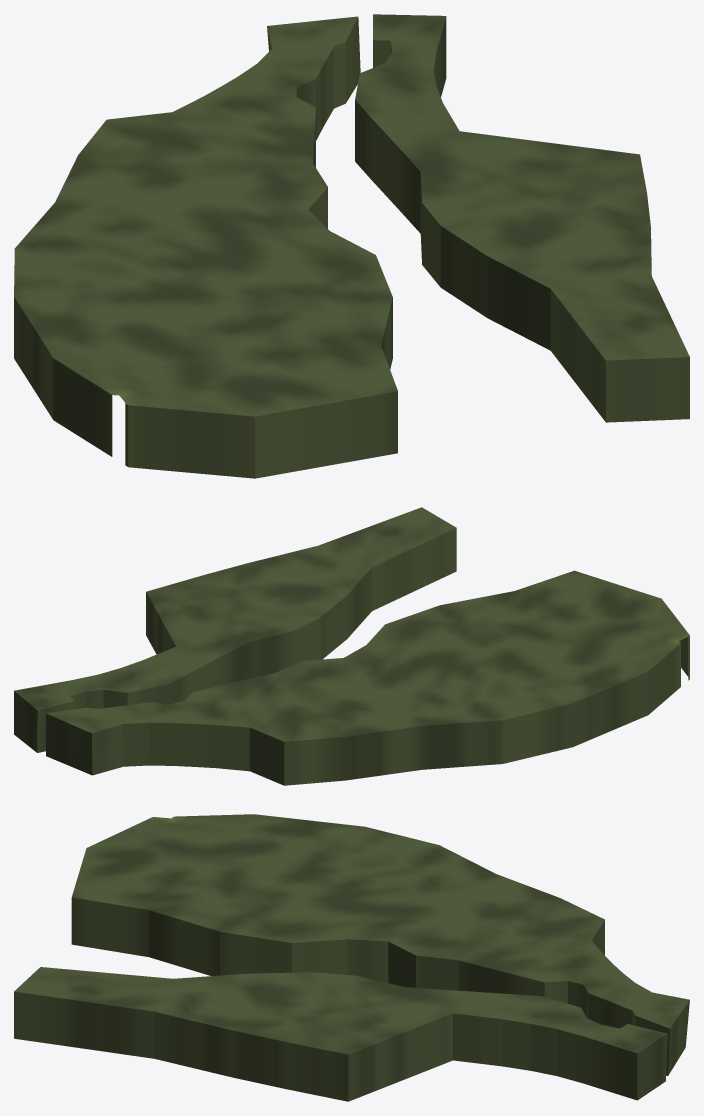
The model's file is superficie02.fbx.
3 views of the same model, one above another, from view 1: azimuth 30°, elevation 25°; view 2: azimuth 150°, elevation 25°; view 3: azimuth 270°, elevation 25° (orthographic). The views are drawn at different scales.
Parts seen in each view (by area): view 1: superficie02; view 2: superficie02; view 3: superficie02.
Boxes of the visible parts, box(x1,y1,x2,y2) form: superficie02: box(14, 14, 689, 478); superficie02: box(14, 507, 689, 785); superficie02: box(14, 814, 689, 1101).
Size of the model in its own units: 212 by 19.36 by 252.
